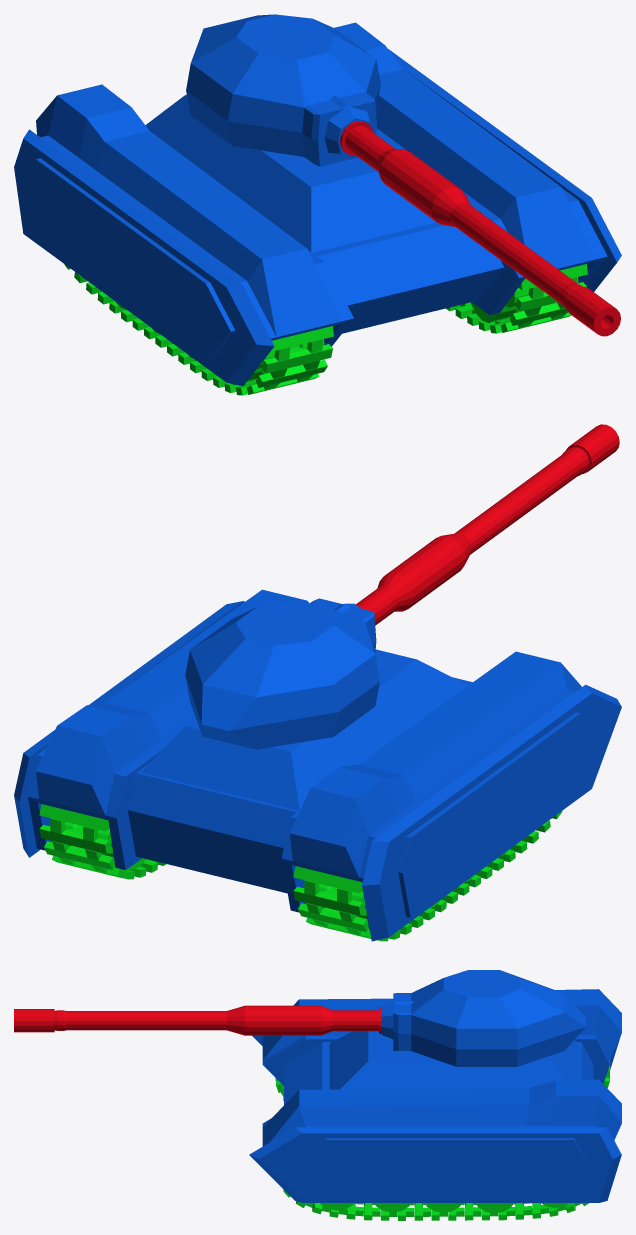
The model's file is tank2.glb.
3 views of the same model, one above another, from view 1: azimuth 30°, elevation 25°; view 2: azimuth 150°, elevation 25°; view 3: azimuth 270°, elevation 25° (orthographic). The views are drawn at different scales.
Parts seen in each view (by area): view 1: Cube.001, Cube, Cube.003, Cylinder, Cube.002, Cube.004; view 2: Cube.001, Cube, Cube.003, Cylinder, Cube.002, Cube.004; view 3: Cube.001, Cube.003, Cube, Cylinder, Cube.004.
Part boxes in pixels (bbox=[...]): Cube.001: bbox=[14, 22, 621, 385]; Cube: bbox=[145, 94, 504, 333]; Cube.003: bbox=[186, 14, 380, 166]; Cylinder: bbox=[340, 120, 620, 336]; Cube.002: bbox=[64, 264, 333, 395]; Cube.004: bbox=[446, 264, 587, 333]; Cube.001: bbox=[14, 589, 621, 941]; Cube: bbox=[128, 649, 472, 893]; Cube.003: bbox=[185, 598, 379, 749]; Cylinder: bbox=[356, 424, 619, 625]; Cube.002: bbox=[293, 811, 562, 941]; Cube.004: bbox=[39, 804, 166, 879]; Cube.001: bbox=[249, 989, 621, 1202]; Cube.003: bbox=[381, 970, 585, 1066]; Cube: bbox=[284, 1031, 593, 1104]; Cylinder: bbox=[14, 1005, 381, 1035]; Cube.004: bbox=[283, 1189, 588, 1220].
Size of the model in its own units: 7.94 by 5 by 15.27.
